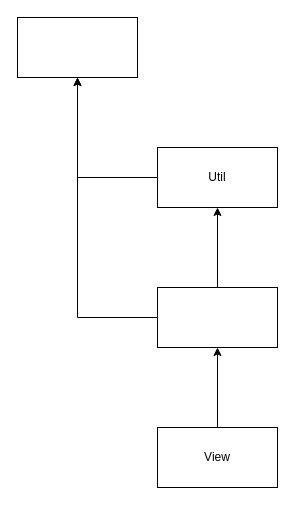
This 295x505 diagram has some shape labels left out. Here are the shapes that lost their labels. From the top down, the centre of each, then its label:
(77,47): Define
(217,317): ViewModel
